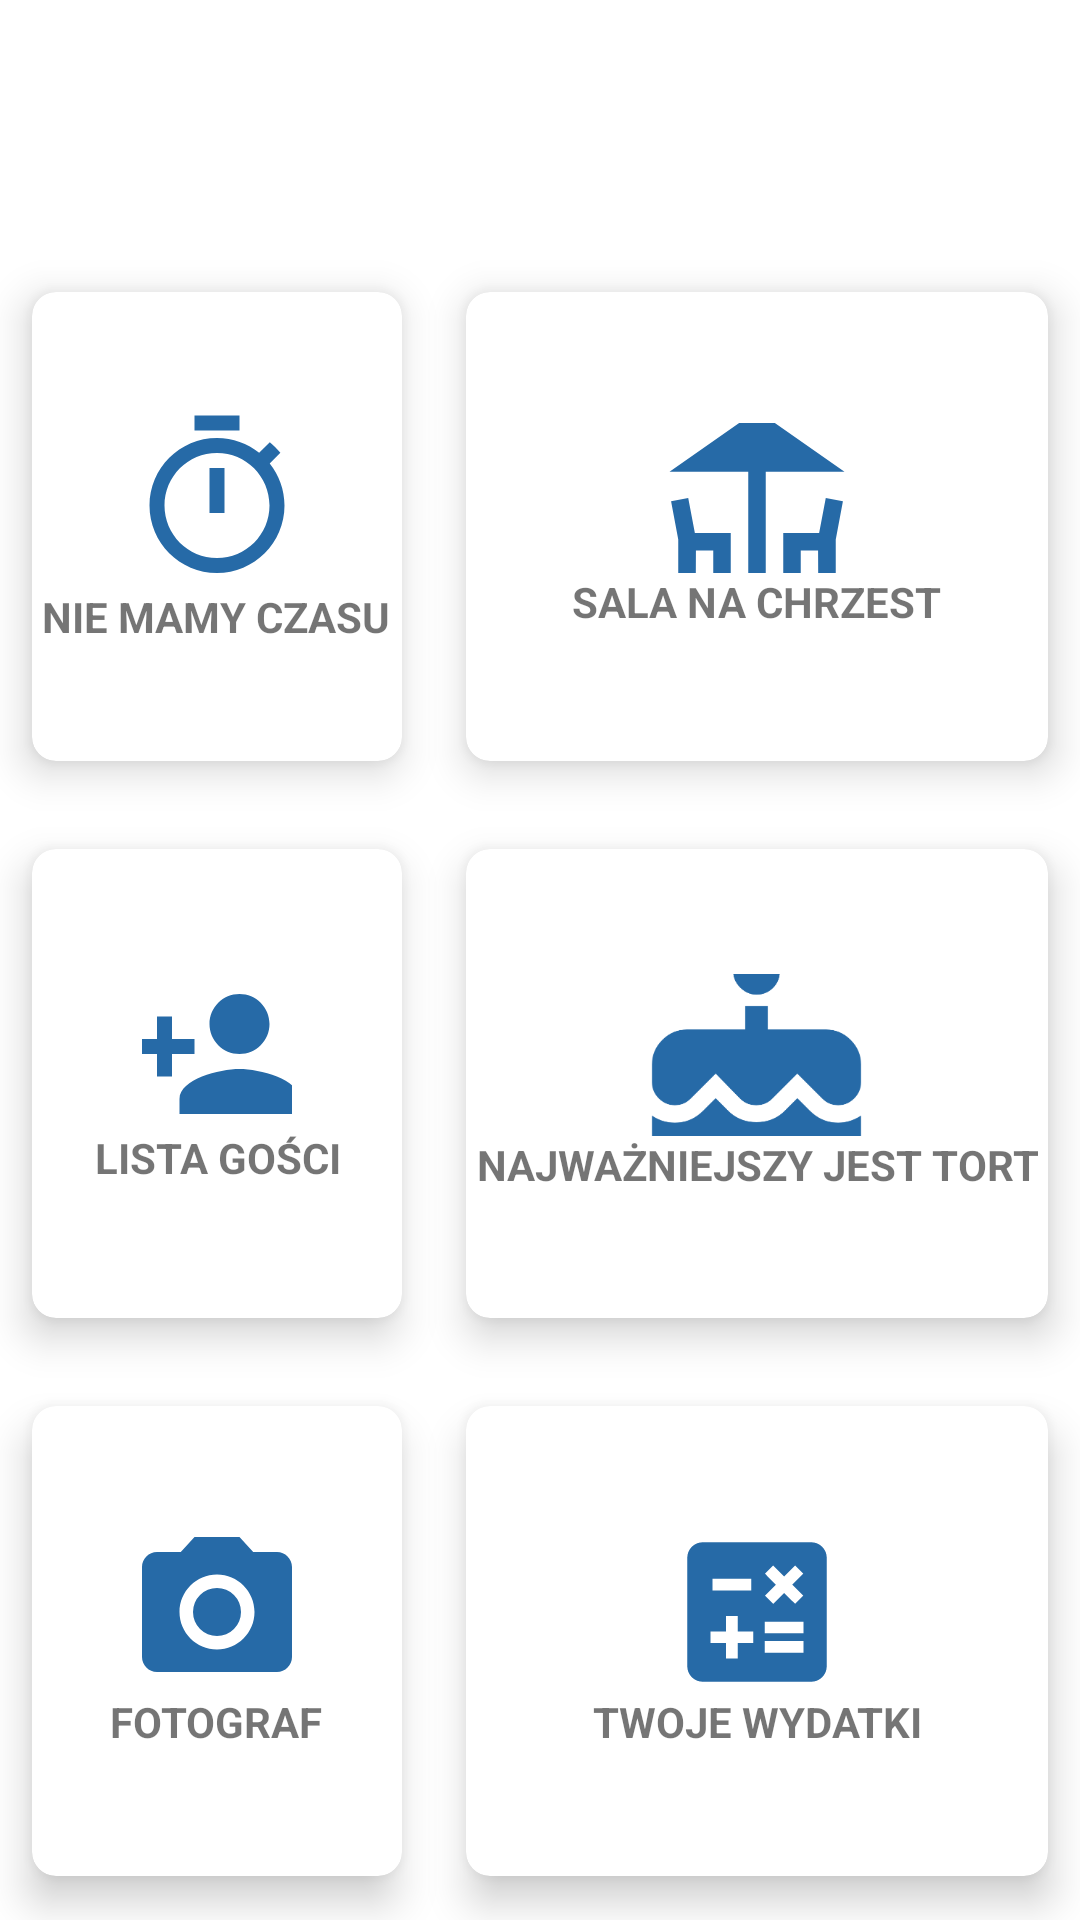

Icon bounding boxes for this 1080 x 1920 phone screenshot, format (x1, y1, x2, y2):
cake: (652, 974, 861, 1136)
calculate: (687, 1542, 827, 1682)
camera: (142, 1537, 292, 1672)
deck: (670, 423, 844, 573)
person add: (142, 994, 292, 1114)
timer: (149, 415, 285, 573)
